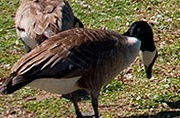goose: (2, 18, 162, 118)
